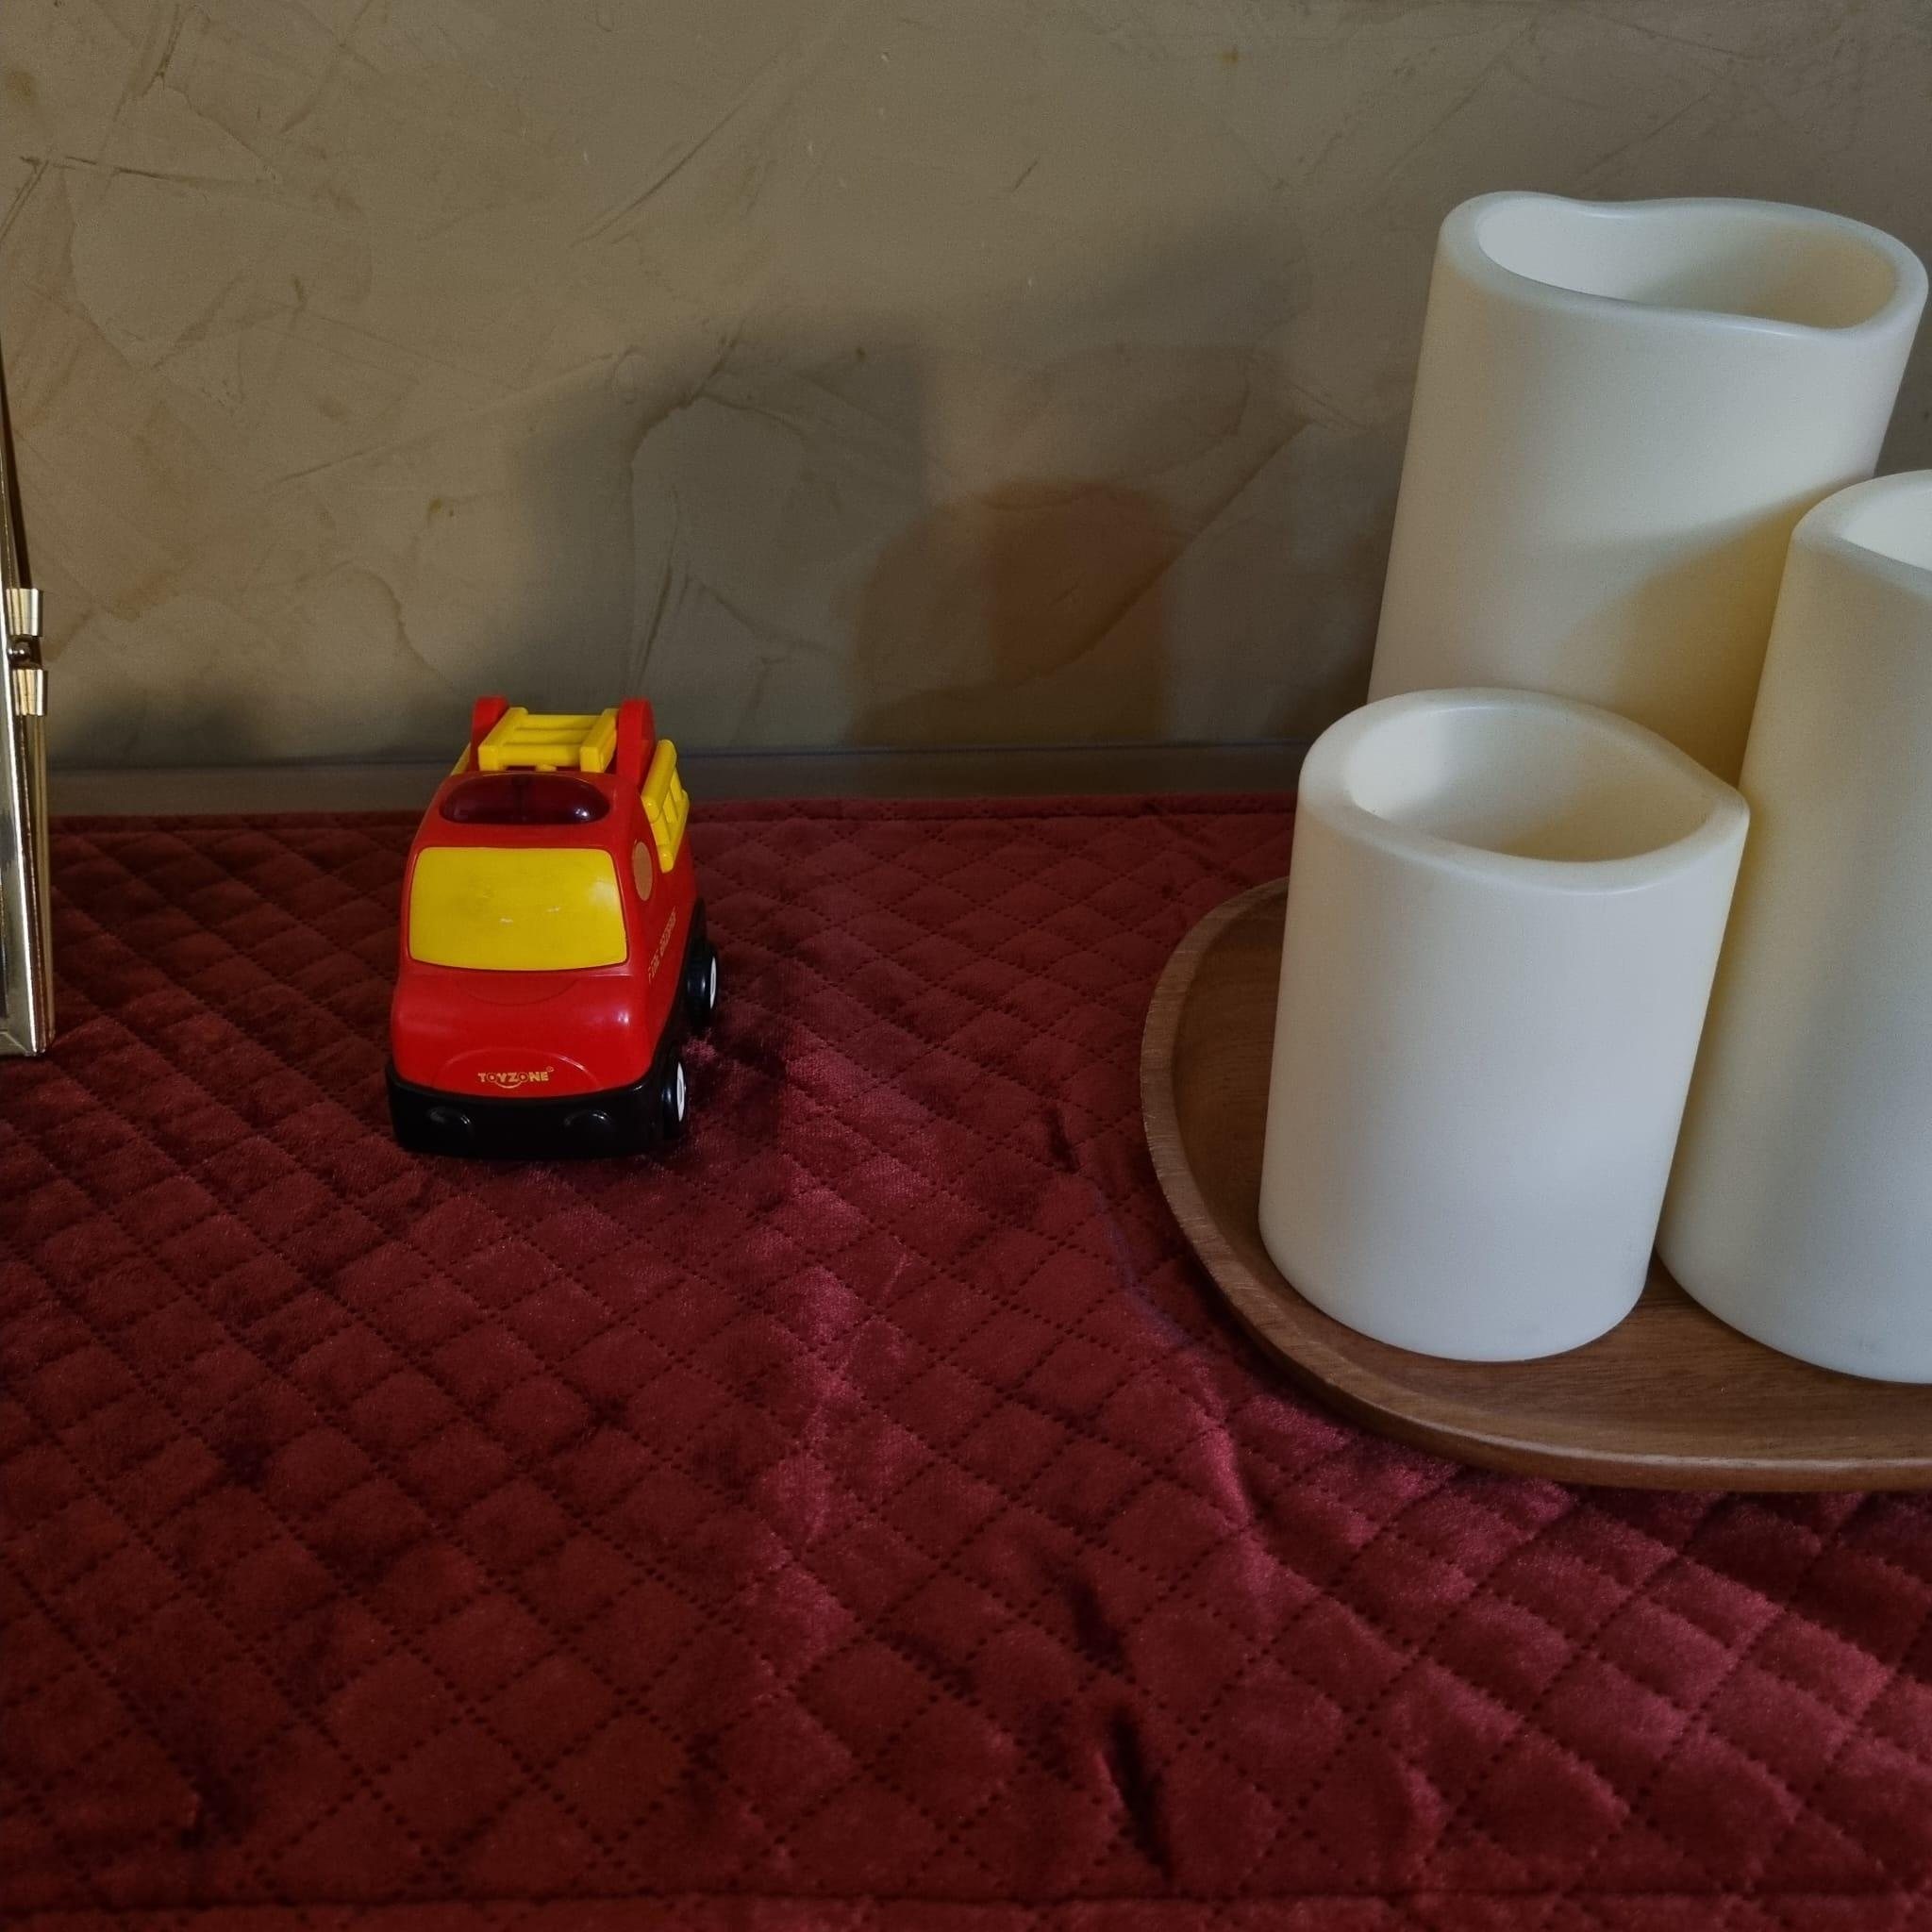firetruck_off: (379, 690, 720, 1157)
